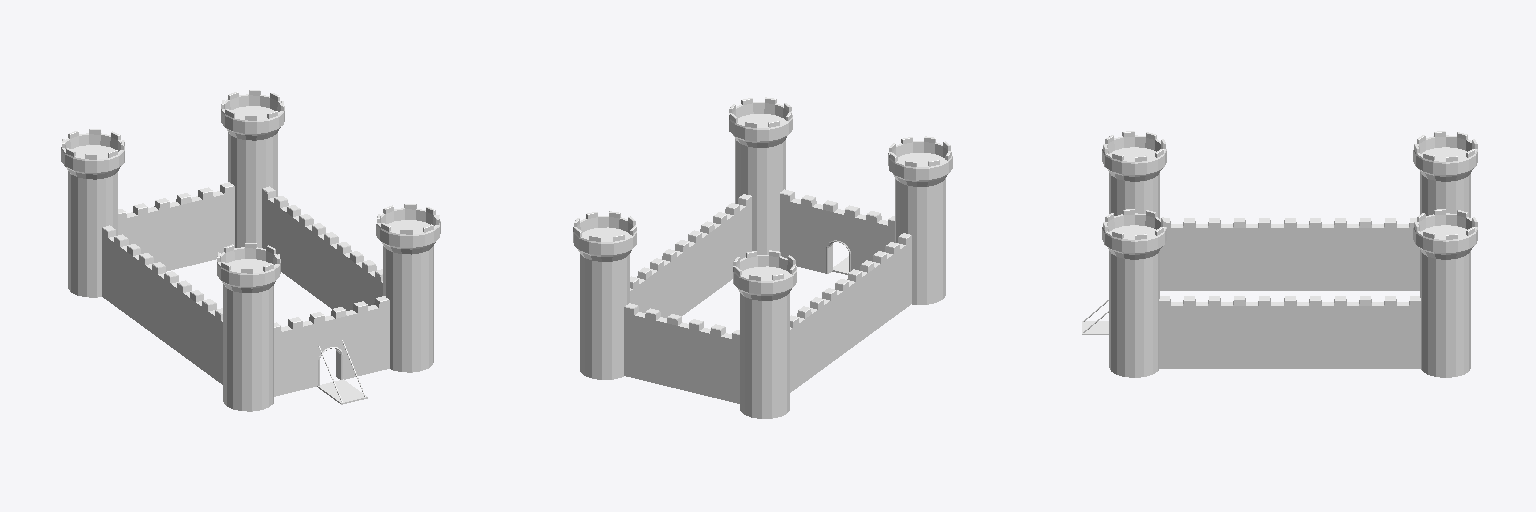
The model's file is castle.obj.
3 views of the same model, side by side, from view 1: azimuth 30°, elevation 25°; view 2: azimuth 150°, elevation 25°; view 3: azimuth 270°, elevation 25° (orthographic).
Parts seen in each view (by area): view 1: Wall_Cube; view 2: Wall_Cube; view 3: Wall_Cube.
Boxes of the visible parts, box(x1,y1,x2,y2) form: Wall_Cube: box(61, 90, 440, 411); Wall_Cube: box(573, 97, 952, 418); Wall_Cube: box(1082, 131, 1477, 377).
Size of the model in its own units: 0.3731 by 0.241 by 0.5936.